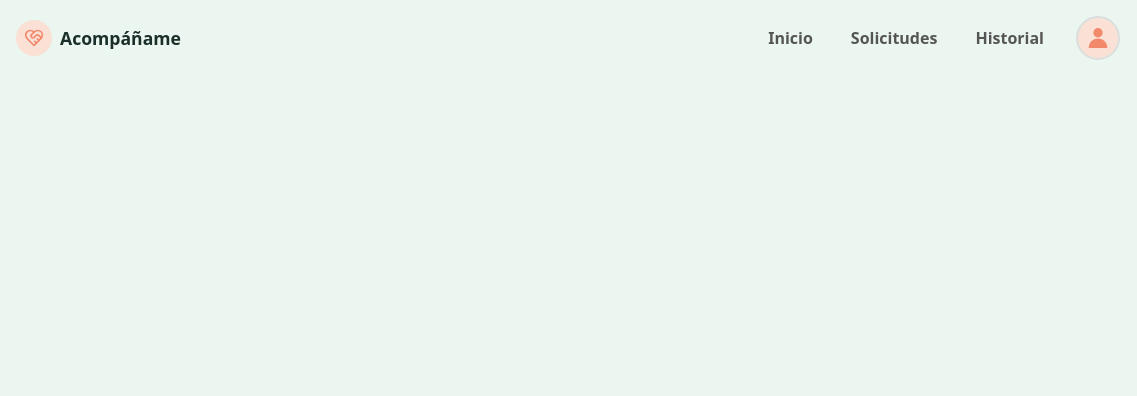
Test case: NavBar › el menú del cuidador tiene la opción Cambiar contraseña
Click the button with class "navbar__avatar".
click(1098, 38)  # box 1076,16 -> 1120,60
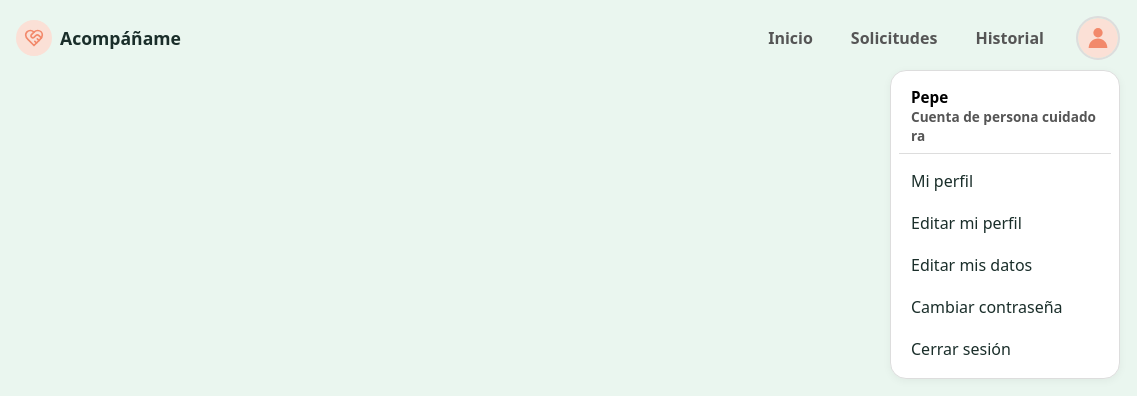
Check: the button with id "cambiar-password" reads "Cambiar contraseña", box 899,286 -> 1111,328
